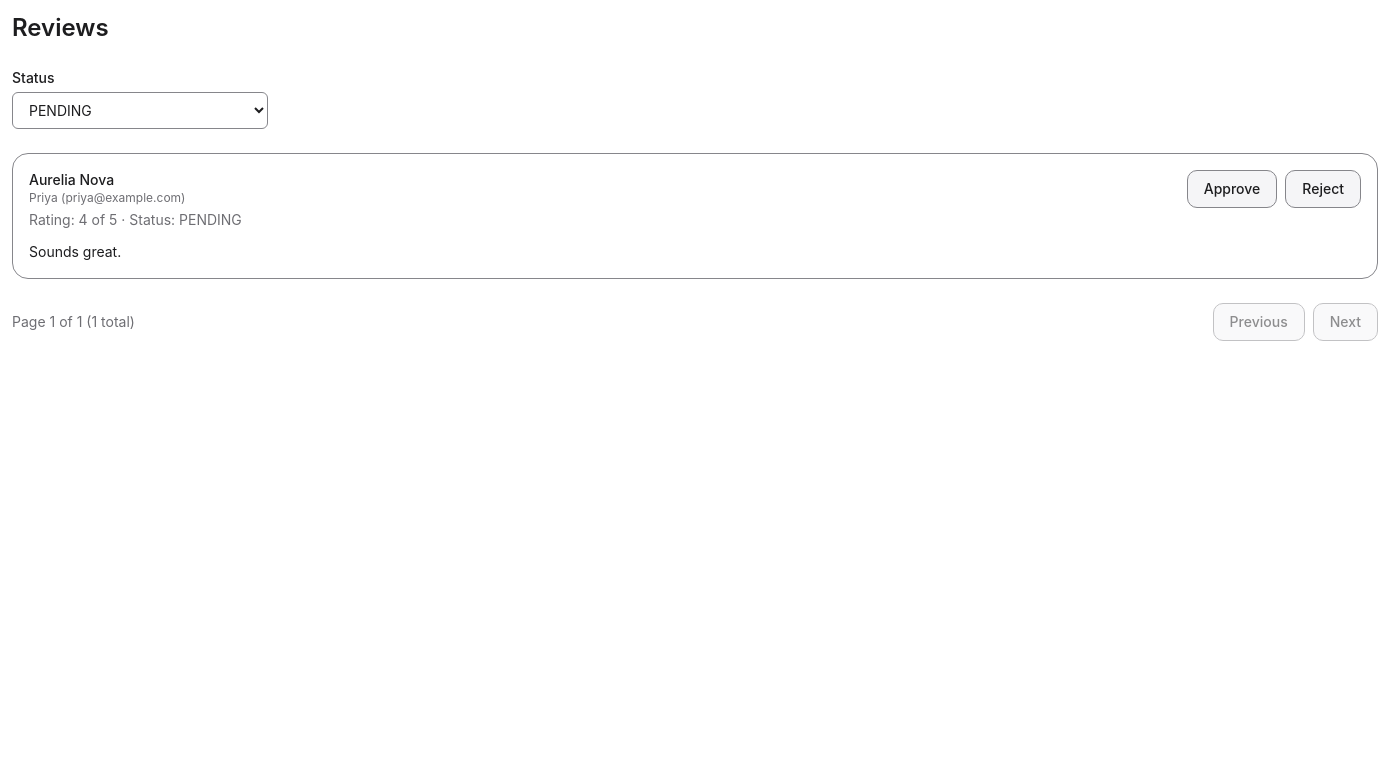
Test: AdminReviewsPage › shows an error toast when moderation fails
Click the button with aria-label "Reject review" at x=1323, y=189, box [1285,170,1361,208]
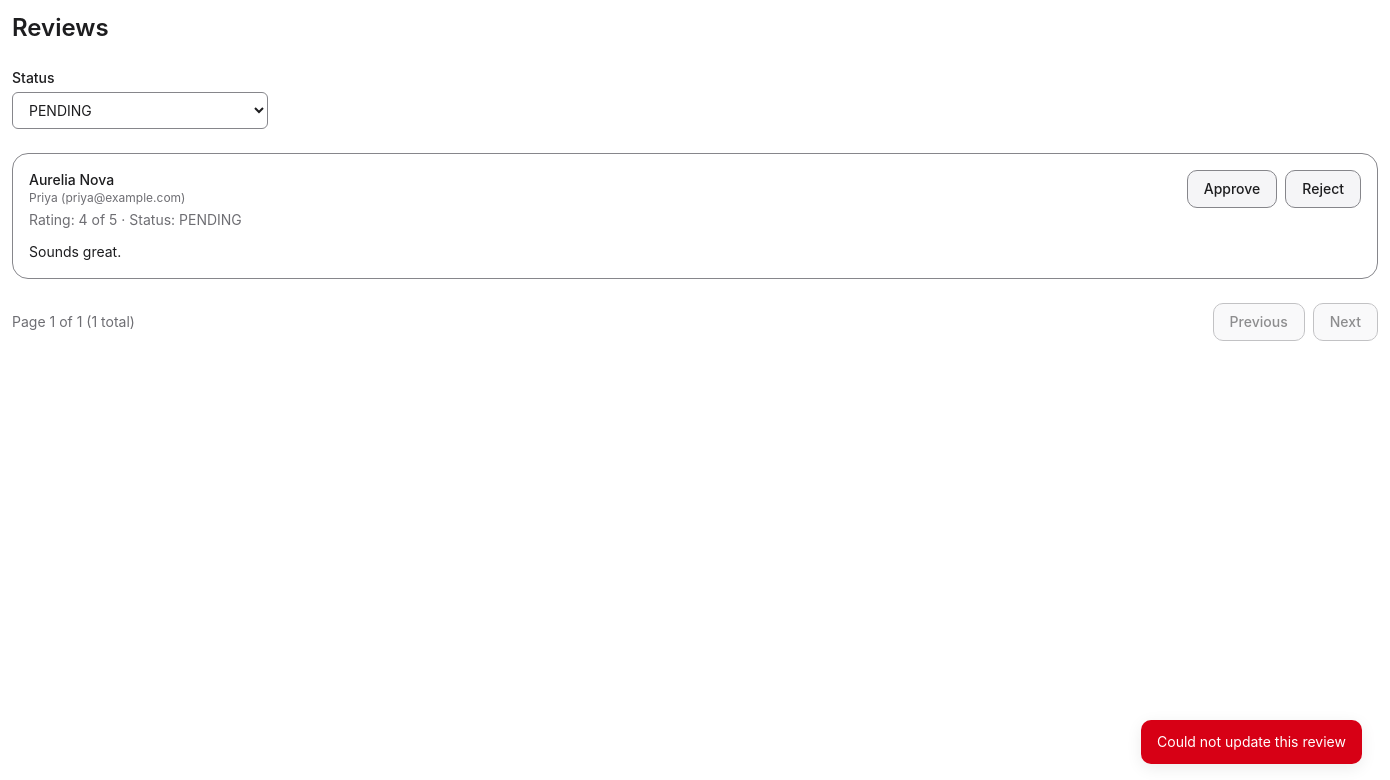
Expected: the text "Could not update this review" is shown, [1141,720,1362,764]
